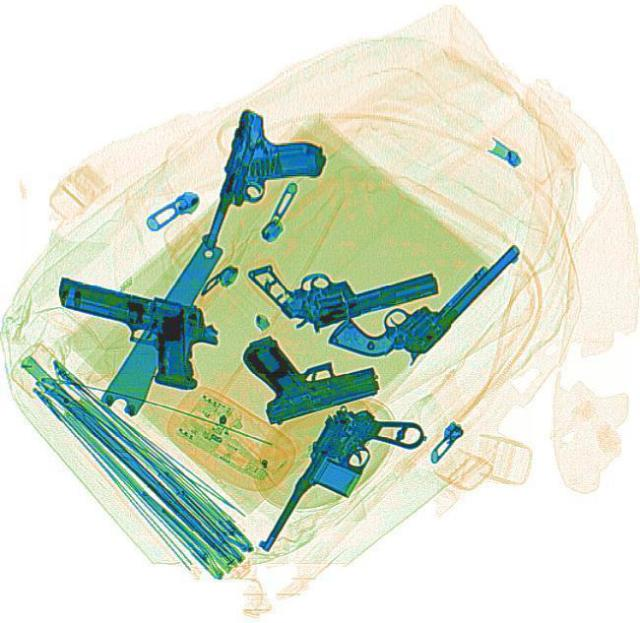Gun: (322, 198, 522, 391), (253, 389, 429, 584), (195, 103, 335, 269), (245, 223, 441, 340), (36, 273, 225, 392), (234, 308, 382, 425)
